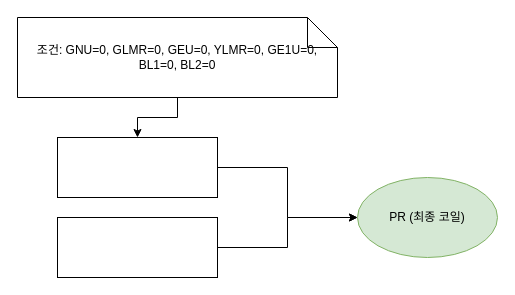
Some shapes in this 515 by 295 pixel diagram are drawn without their labels. The centre of each missing label's shape, as x and y in pixels:
PR.AR (Acting Delay): point (137, 167)
PR.RR (Release Delay): point (137, 247)
